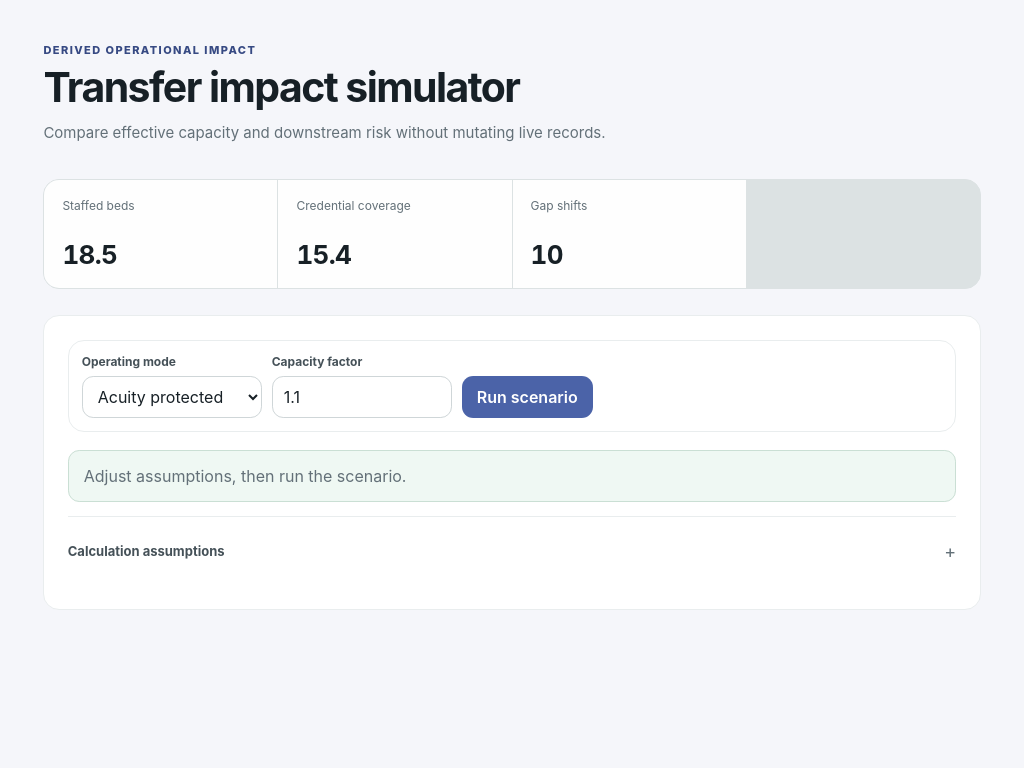
Scenario: CareRoster connected surfaces › runs a deterministic scenario asynchronously
Click the button "Run scenario".
click(527, 397)  # box [462,376,593,418]
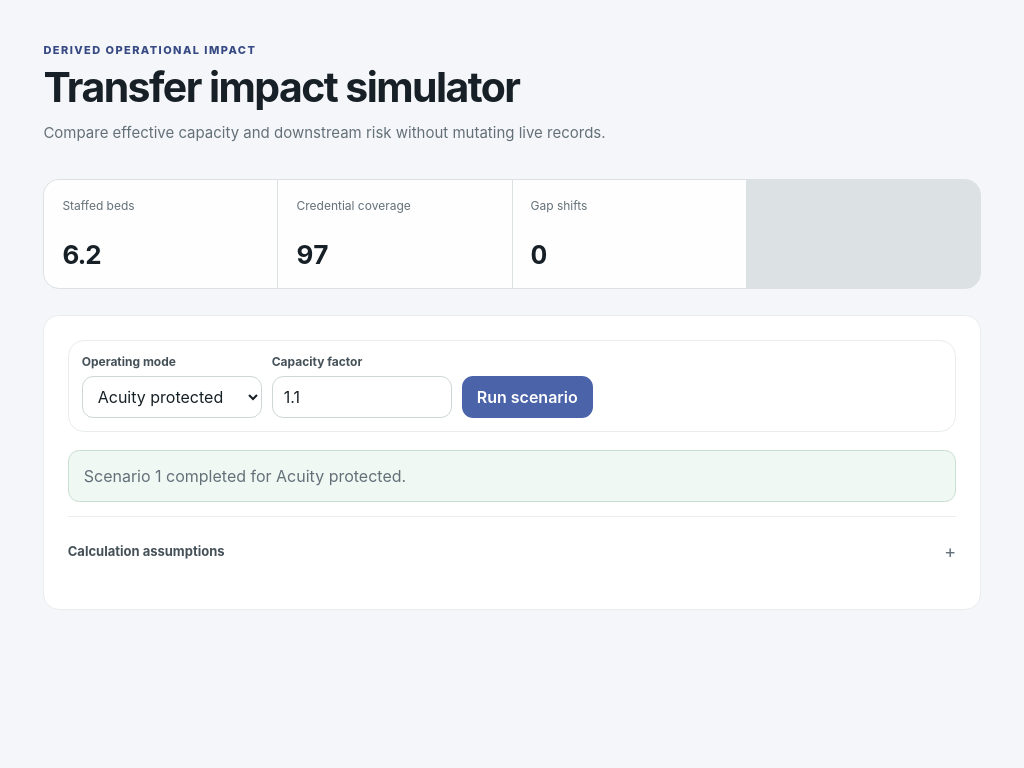
Check: the message shows "completed", box [84,466,406,486]
